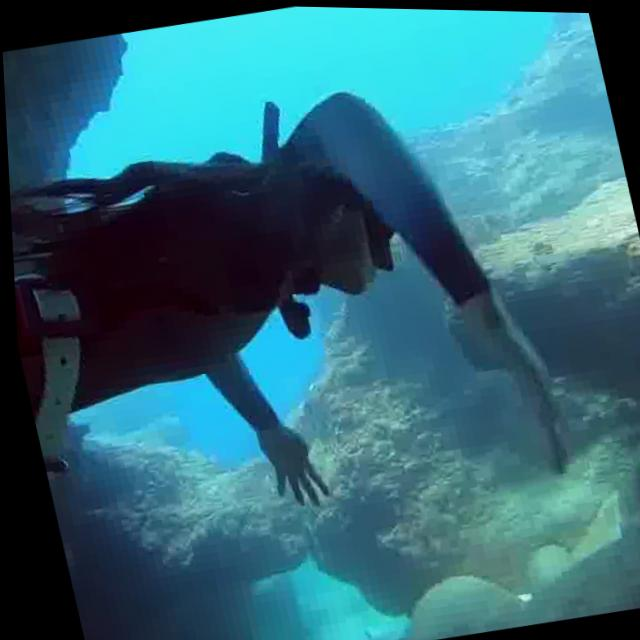human: (1, 34, 589, 551)
